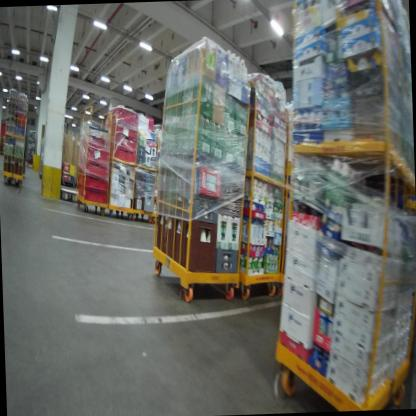small_load_carrier: (103, 118, 144, 147), (78, 143, 111, 175), (74, 185, 112, 210), (101, 107, 141, 129), (74, 128, 111, 151), (76, 172, 107, 196), (111, 148, 139, 171), (80, 160, 110, 181), (110, 135, 140, 153)
